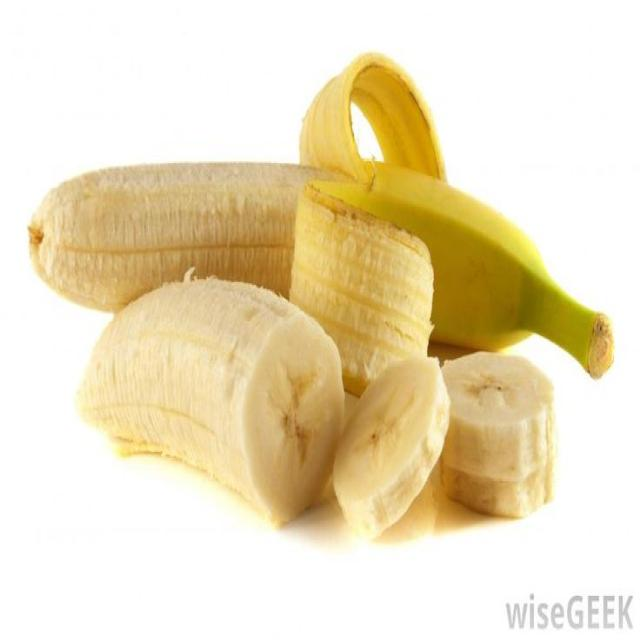banana: (300, 55, 613, 377), (78, 279, 344, 522), (311, 163, 613, 377), (29, 163, 330, 309), (290, 185, 433, 394), (334, 357, 449, 538), (441, 353, 556, 516), (300, 53, 445, 182)
